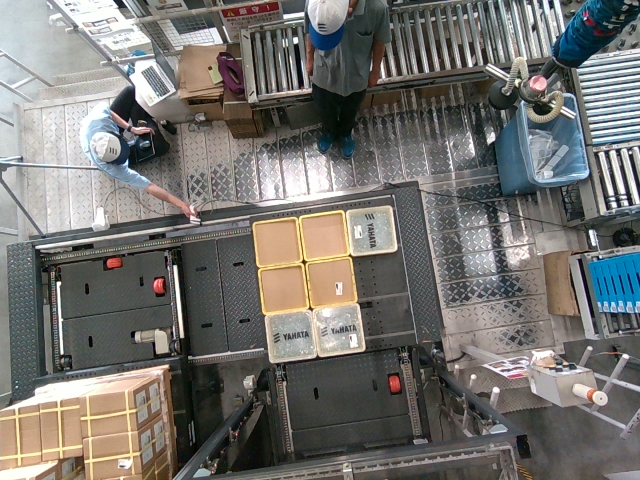box: (249, 217, 303, 267), (294, 212, 348, 262), (344, 204, 398, 254), (305, 257, 359, 307), (256, 264, 310, 314), (263, 311, 317, 361), (309, 305, 363, 355)
